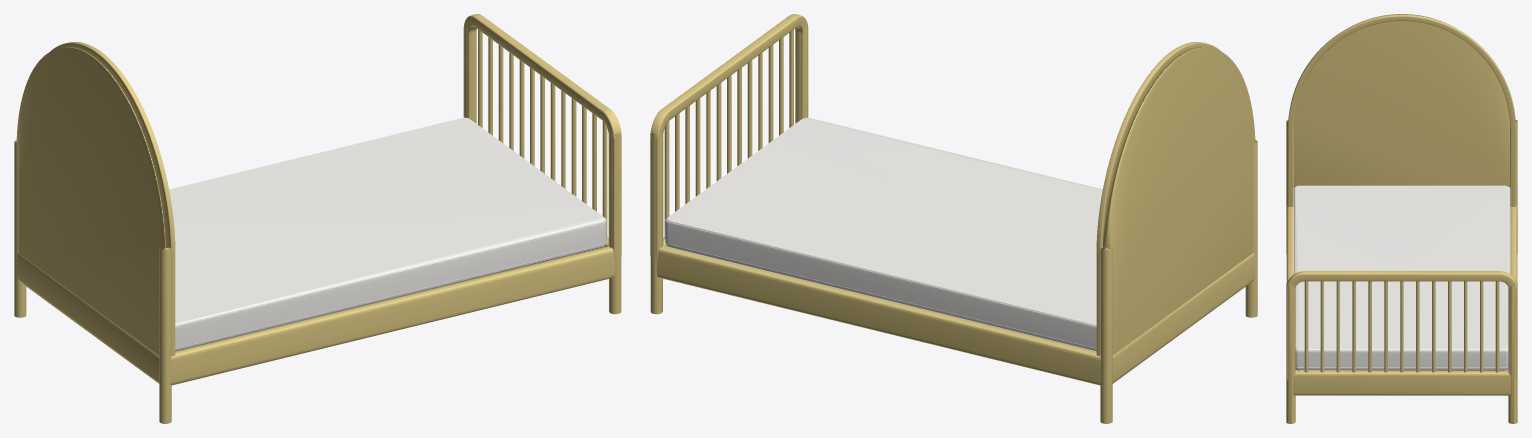
File: yellow_toto2_youth.glb
The picture shows the model from 3 angles, left to right: view 1: azimuth 30°, elevation 25°; view 2: azimuth 150°, elevation 25°; view 3: azimuth 270°, elevation 25°; orthographic projection. The views are drawn at different scales.
Parts seen in each view (by area): view 1: Fitted ivory mattress covering bed deck 2000 x 1110 x 120 mm, Solid arched headboard, Long base rail, Rounded corner leg (×4), Rounded foot guard outer frame, End base rail, Foot guard vertical spindle (×5), Raised rounded arch border, Mattress piping (×2); view 2: Fitted ivory mattress covering bed deck 2000 x 1110 x 120 mm, Solid arched headboard, Long base rail, Rounded corner leg (×4), Rounded foot guard outer frame, End base rail, Foot guard vertical spindle (×5), Raised rounded arch border, Mattress piping (×2); view 3: Fitted ivory mattress covering bed deck 2000 x 1110 x 120 mm, Solid arched headboard, End base rail, Foot guard vertical spindle (×13), Rounded foot guard outer frame, Raised rounded arch border, Rounded corner leg (×4), Long base rail (×2), Mattress piping (×2).
Part boxes in pixels (bbox=[...]): Fitted ivory mattress covering bed deck 2000 x 1110 x 120 mm: bbox=[169, 117, 606, 351]; Solid arched headboard: bbox=[16, 46, 168, 355]; Long base rail: bbox=[170, 246, 615, 385]; Rounded corner leg (×4): bbox=[14, 25, 621, 423]; Rounded foot guard outer frame: bbox=[463, 14, 621, 257]; End base rail: bbox=[17, 253, 159, 383]; Foot guard vertical spindle (×5): bbox=[498, 45, 607, 238]; Raised rounded arch border: bbox=[50, 42, 175, 356]; Mattress piping (×2): bbox=[175, 218, 606, 348]; Fitted ivory mattress covering bed deck 2000 x 1110 x 120 mm: bbox=[665, 117, 1102, 351]; Solid arched headboard: bbox=[1103, 46, 1255, 355]; Long base rail: bbox=[656, 246, 1101, 385]; Rounded corner leg (×4): bbox=[650, 25, 1257, 423]; Rounded foot guard outer frame: bbox=[650, 14, 808, 257]; End base rail: bbox=[1112, 253, 1254, 383]; Foot guard vertical spindle (×5): bbox=[664, 45, 773, 238]; Raised rounded arch border: bbox=[1096, 42, 1221, 356]; Mattress piping (×2): bbox=[665, 218, 1096, 348]; Fitted ivory mattress covering bed deck 2000 x 1110 x 120 mm: bbox=[1294, 185, 1509, 370]; Solid arched headboard: bbox=[1294, 14, 1509, 187]; End base rail: bbox=[1293, 370, 1510, 395]; Foot guard vertical spindle (×13): bbox=[1304, 281, 1499, 372]; Rounded foot guard outer frame: bbox=[1286, 271, 1517, 380]; Raised rounded arch border: bbox=[1288, 14, 1515, 206]; Rounded corner leg (×4): bbox=[1286, 120, 1517, 423]; Long base rail (×2): bbox=[1286, 206, 1517, 282]; Mattress piping (×2): bbox=[1293, 187, 1510, 368].
Bounding box in the file's own units: 2.09 × 1.37 × 1.19.
